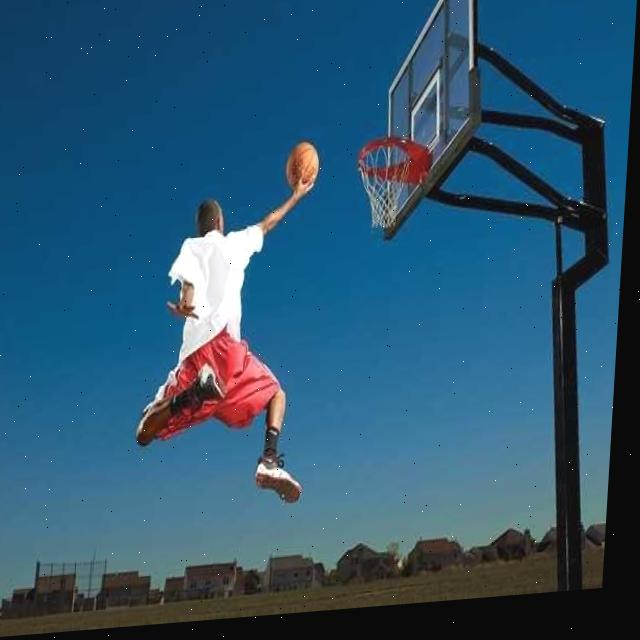basketball: (284, 137, 322, 192)
hoop: (351, 131, 416, 236)
